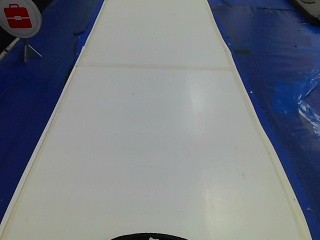company: (1, 1, 43, 42)
